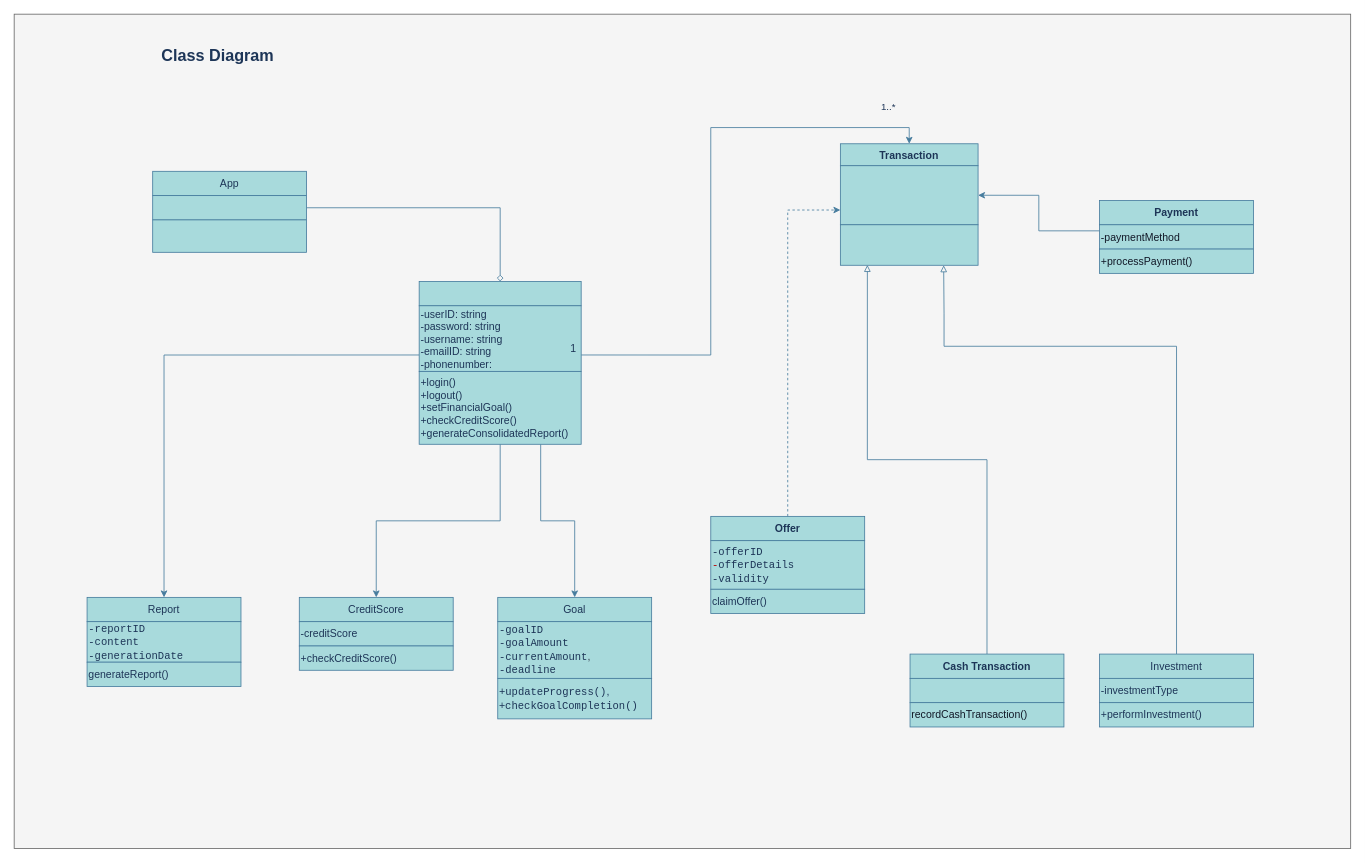
Some shapes in this 1365 by 863 pixel diagram are drawn without their labels. The box of each missing label's shape, as (x1, y1, x2, y2) in pixels:
+recordTransaction() +getTransactionDetails(): (840, 224, 978, 265)
+startApp() + shutdownApp(): (152, 219, 307, 252)
-transactionID: int -amount: float -date: date -description: string: (840, 165, 978, 225)
User: (418, 281, 581, 306)
